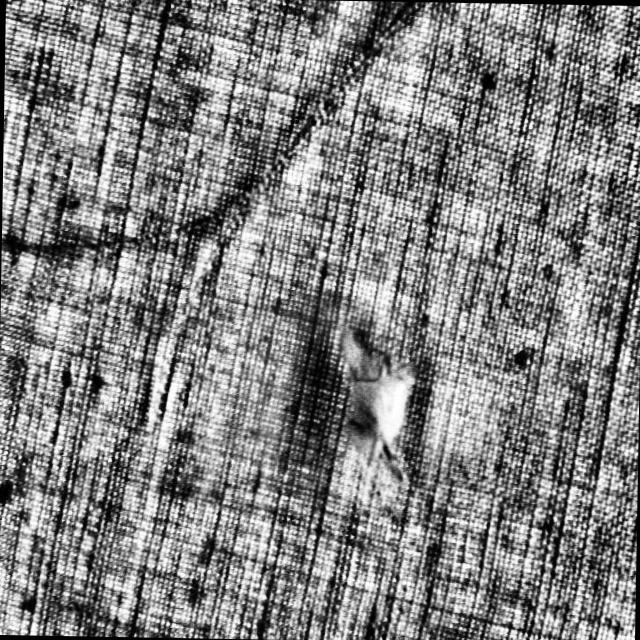gray stitch: (0, 0, 425, 383), (341, 332, 418, 466)
